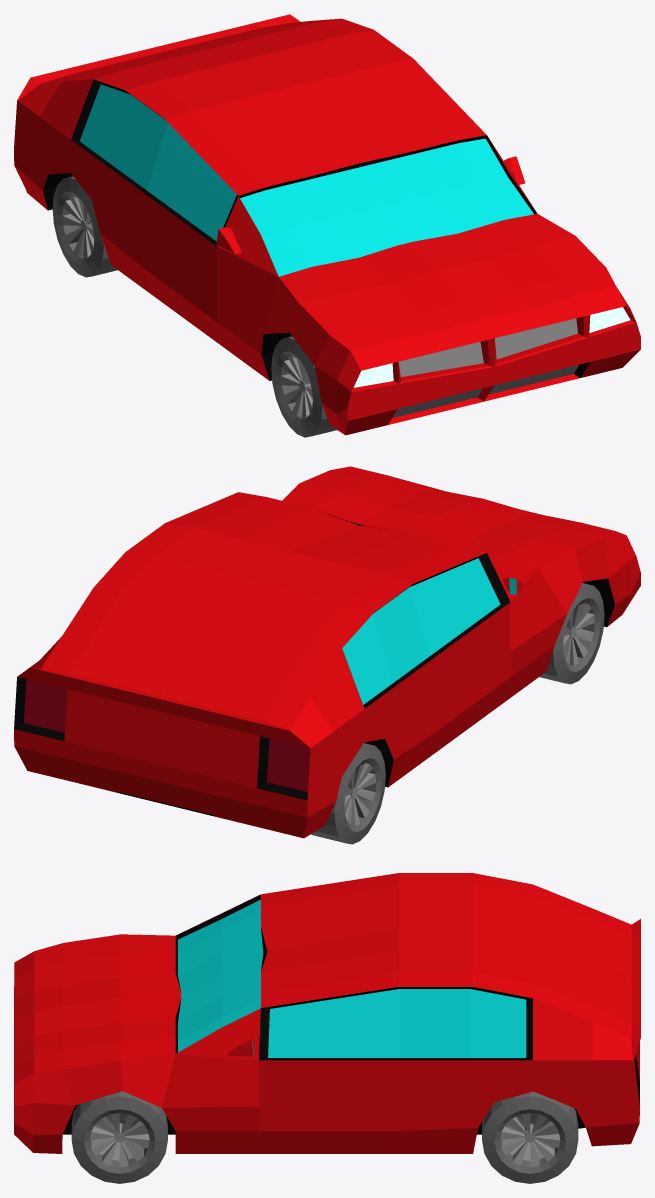
The model's file is car2.glb.
3 renders of one model, top to bottom at view 1: azimuth 30°, elevation 25°; view 2: azimuth 150°, elevation 25°; view 3: azimuth 270°, elevation 25°, orthographic. The views are drawn at different scales.
Visible parts, largest first — view 1: Car; view 2: Car; view 3: Car.
Boxes of the visible parts, x1,y1,x2,y2 form: Car: (14,14,640,437); Car: (14,466,640,844); Car: (14,873,640,1183).
Bounding box in the file's own units: 765 × 490 × 1457.
